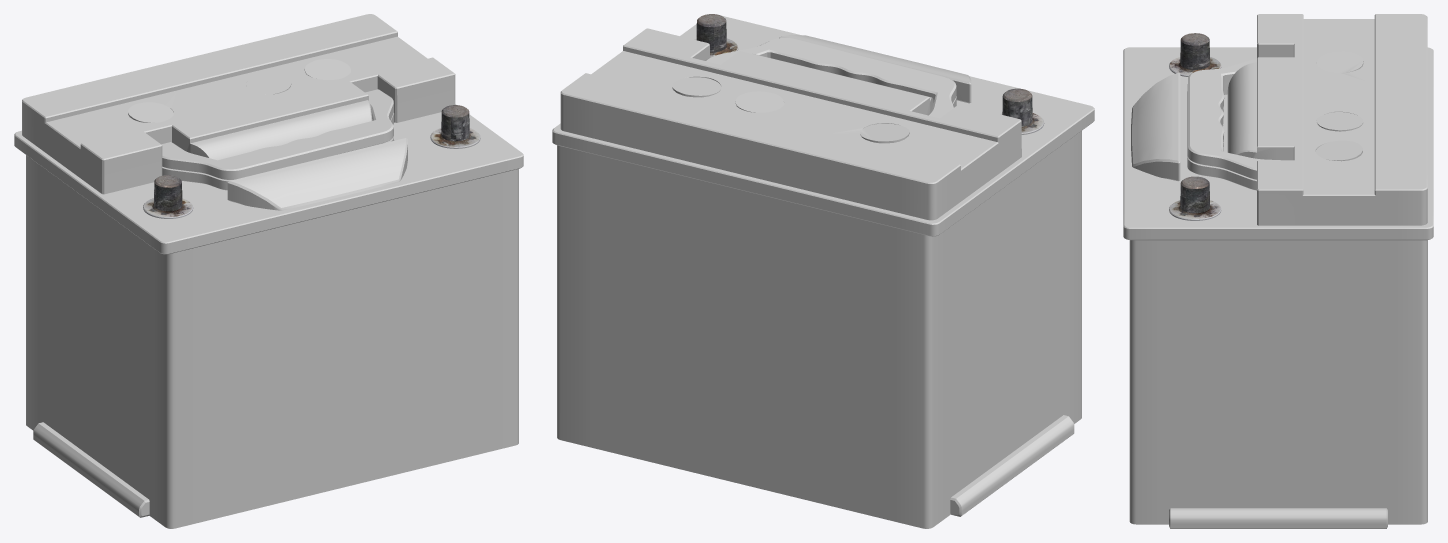
File: Battery.fbx
The picture shows the model from 3 angles, left to right: view 1: azimuth 30°, elevation 25°; view 2: azimuth 150°, elevation 25°; view 3: azimuth 270°, elevation 25°; orthographic projection. The views are drawn at different scales.
Visible parts, largest first — view 1: Battery; view 2: Battery; view 3: Battery.
Part boxes in pixels (<box>): Battery: <box>14,14,523,528</box>; Battery: <box>552,14,1094,528</box>; Battery: <box>1123,14,1433,528</box>.
Size of the model in its own units: 248 by 207 by 175.
